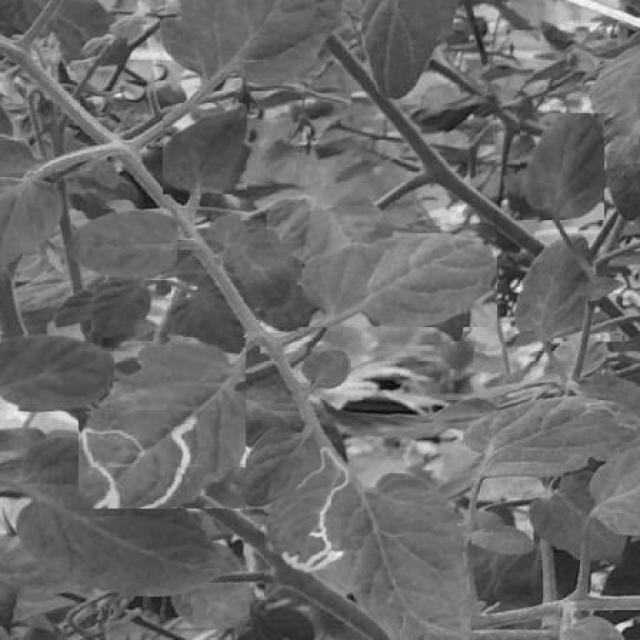Healthy: (302, 226, 497, 327), (520, 113, 604, 220), (0, 334, 114, 412), (62, 209, 178, 281), (163, 104, 247, 195)
Leaf Miner: (264, 425, 471, 640), (78, 338, 245, 509)
